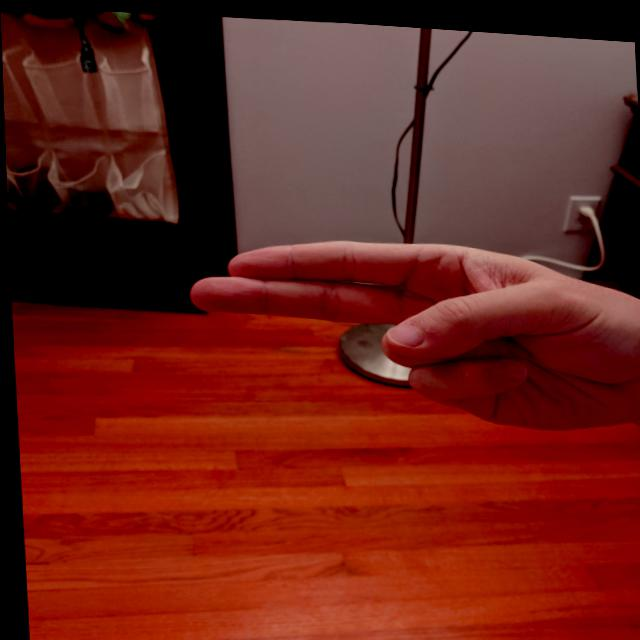H: (171, 211, 639, 445)
